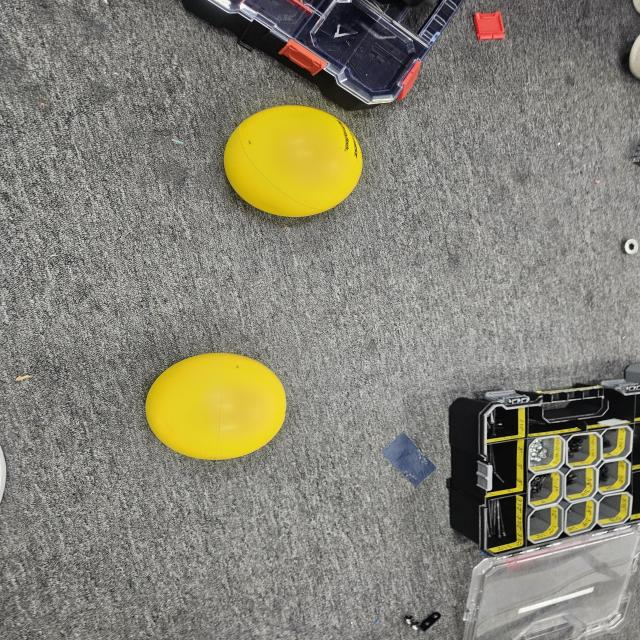Fuel: (207, 100, 381, 224), (134, 344, 301, 466)
